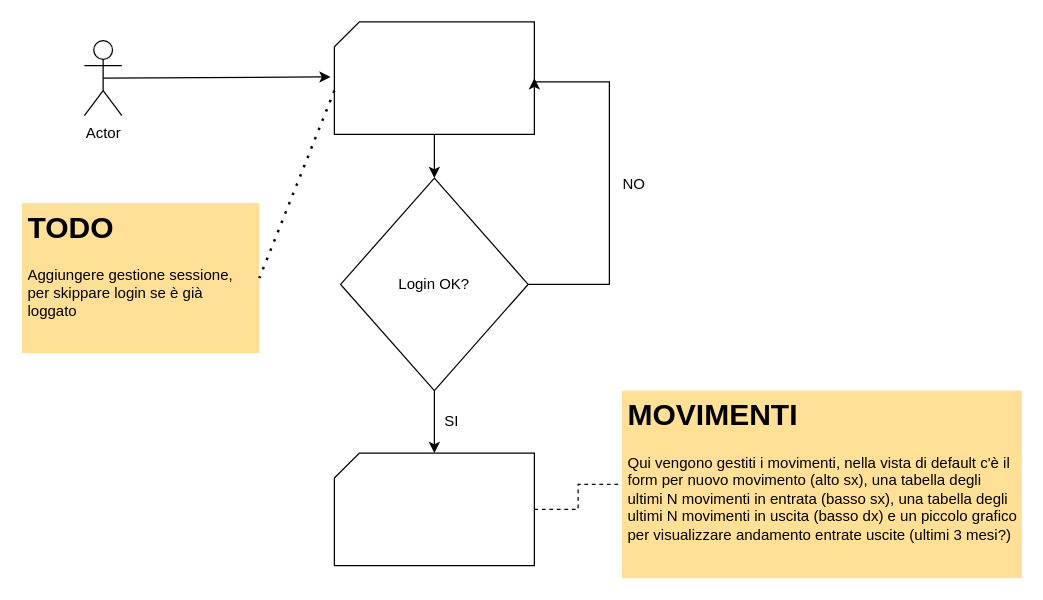
Image size: 1043x600. Some labels were removed from this diagram. Each missing label, with the centre of its shape:
"Login ('endpoint:port/')" goes at point (433, 77).
"MovimentiDashboard (endpoint:port/movimenti/)" goes at point (433, 509).
